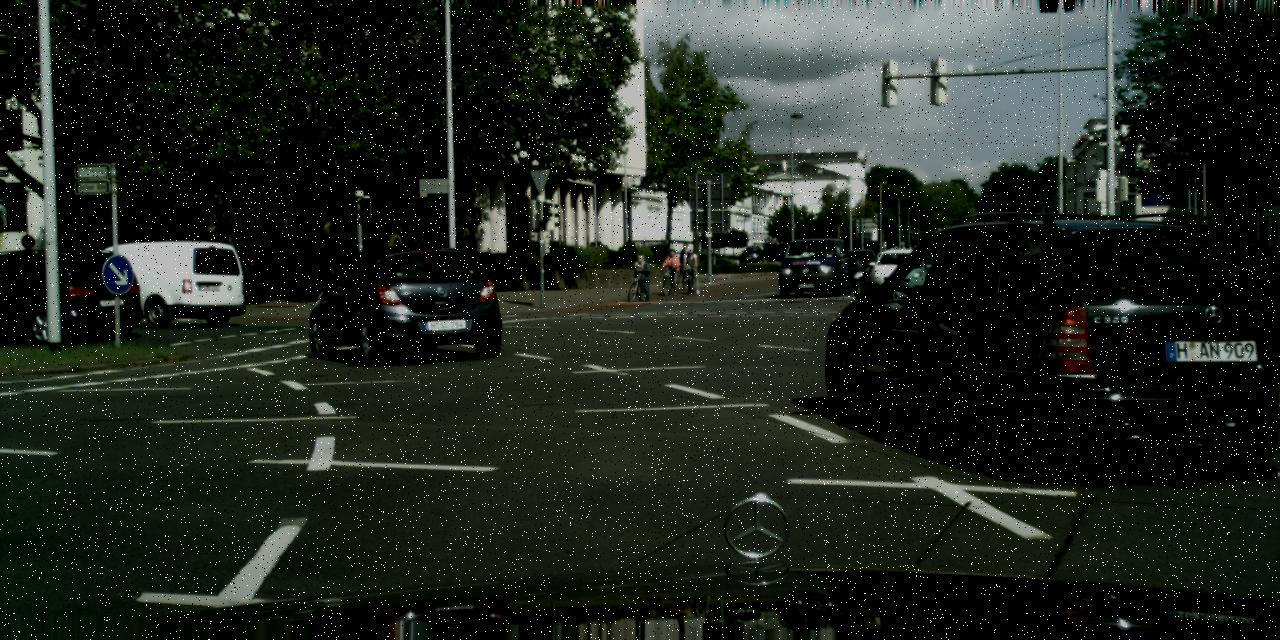ped: (682, 246, 699, 289), (632, 254, 649, 296), (664, 248, 680, 289), (678, 243, 693, 282)
